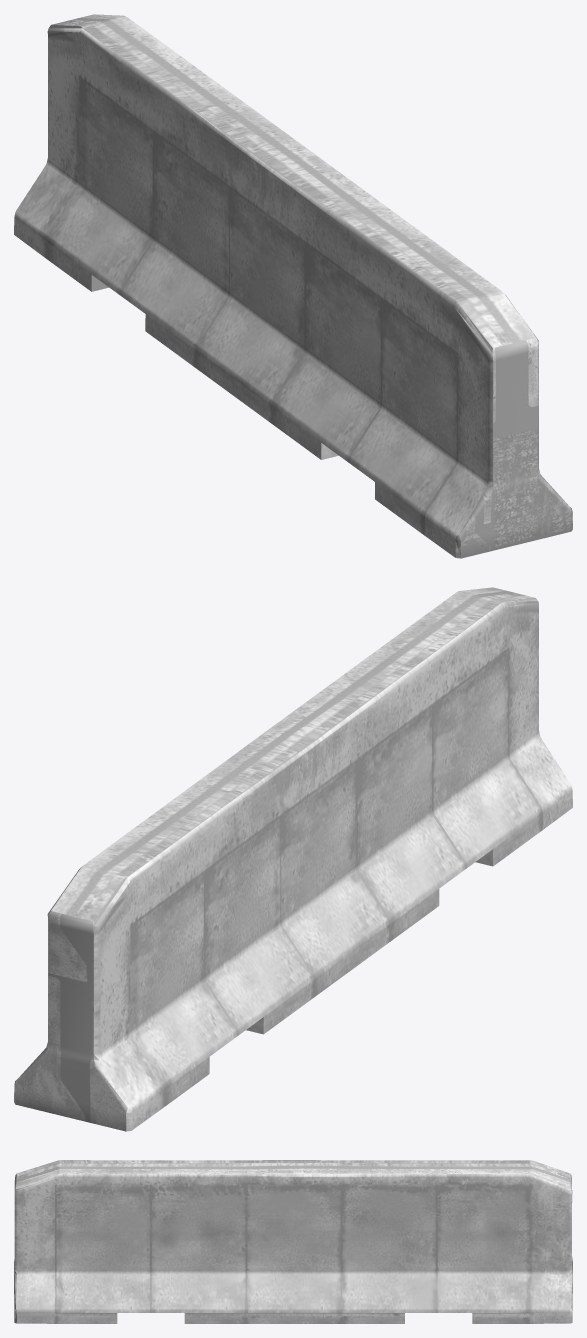
The model's file is Barriere_B.obj.
3 views of the same model, one above another, from view 1: azimuth 30°, elevation 25°; view 2: azimuth 150°, elevation 25°; view 3: azimuth 270°, elevation 25° (orthographic). The views are drawn at different scales.
Visible parts, largest first — view 1: Beton_Blanc, Beton_Rouge; view 2: Beton_Rouge, Beton_Blanc; view 3: Beton_Blanc, Beton_Rouge.
Boxes of the visible parts, left/top/right/bottom form: Beton_Blanc: left=234, top=155, right=572, bottom=558; Beton_Rouge: left=14, top=14, right=315, bottom=395; Beton_Rouge: left=14, top=728, right=352, bottom=1131; Beton_Blanc: left=271, top=587, right=572, bottom=968; Beton_Blanc: left=14, top=1160, right=293, bottom=1323; Beton_Rouge: left=293, top=1160, right=572, bottom=1323.
Size of the model in its own units: 0.5736 by 1.03 by 3.75.
2 materials, 2 textured.
